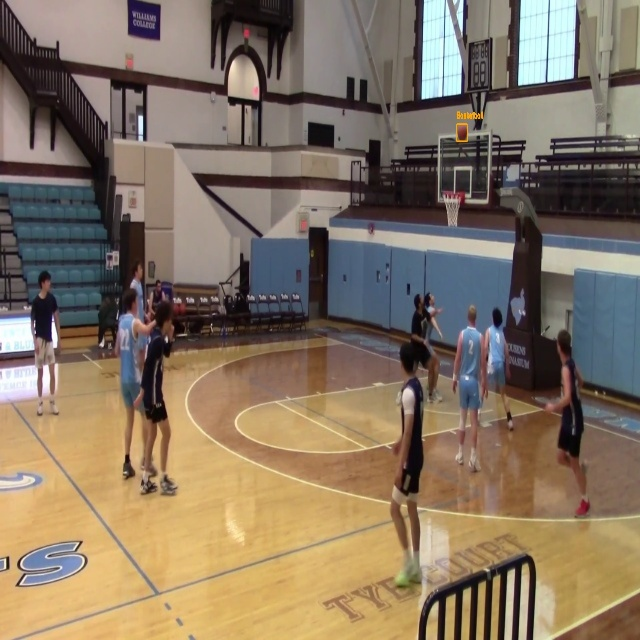Basketball: (457, 124, 467, 141)
